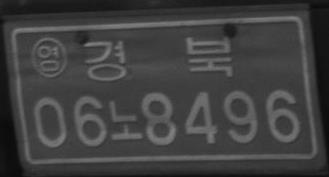0: (31, 96, 68, 150)
4: (184, 90, 218, 145)
6: (264, 89, 302, 144), (73, 93, 107, 148)
8: (143, 91, 176, 146)
9: (222, 89, 258, 145)
경북_D: (82, 35, 235, 82)
노: (108, 98, 142, 141)
영: (30, 35, 68, 79)
